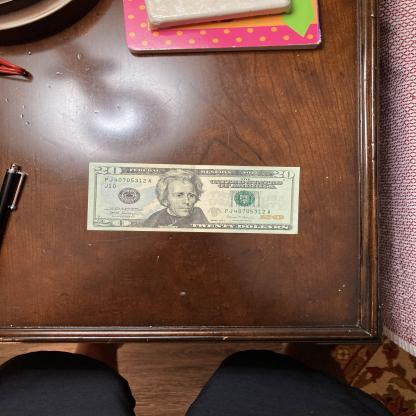twenty-front: (87, 162, 300, 235)
